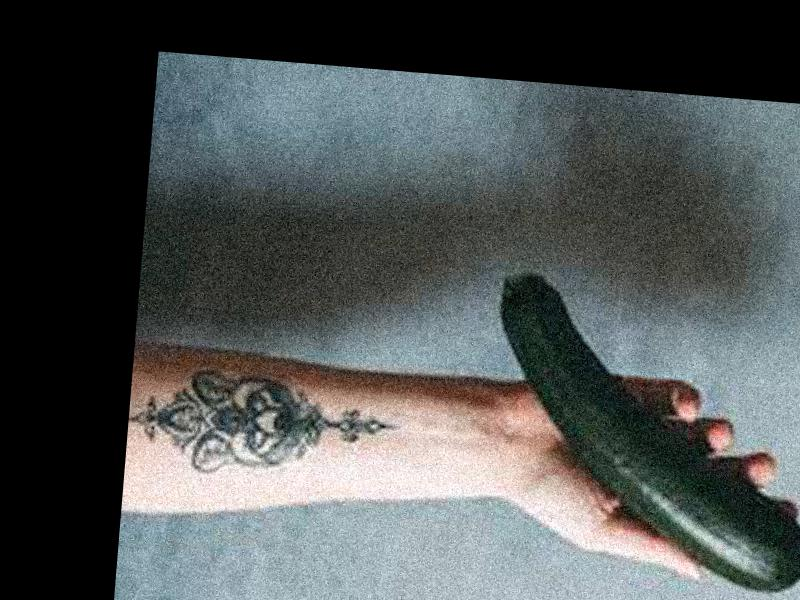Cucumber: (481, 273, 800, 593)
